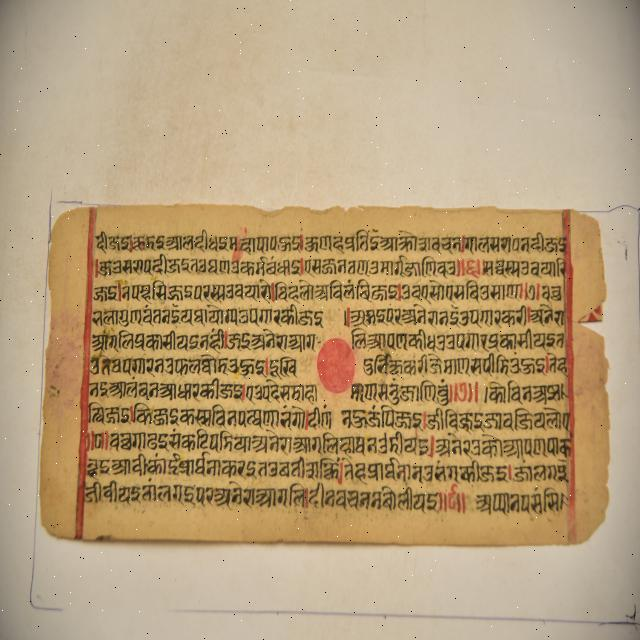text_paragraph: (47, 206, 610, 535)
